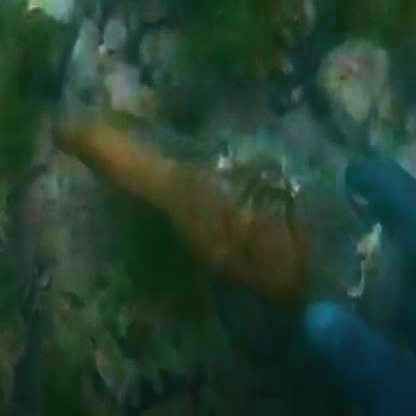gbottle: (37, 75, 331, 306)
